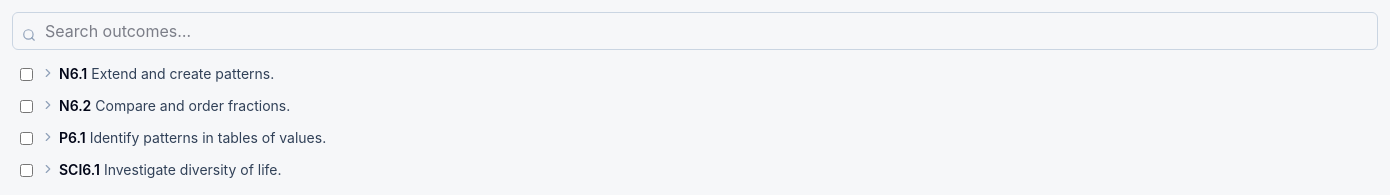
Test case: OutcomePicker › shows a no-match message when the search has no results
This screenshot has width=1390, height=195.
Type "photosynthesis" into the field with placeholder "Search outcomes…".
click(695, 31); type("photosynthesis")  # box [12,12,1378,50]
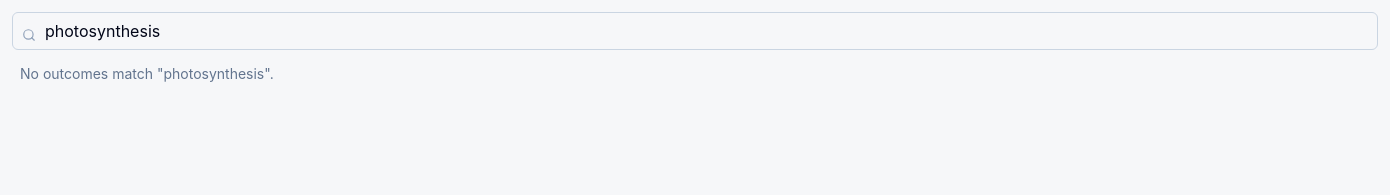
Result: the text "No outcomes match \"photosynthesis\"." is shown at [20,65,274,82]
